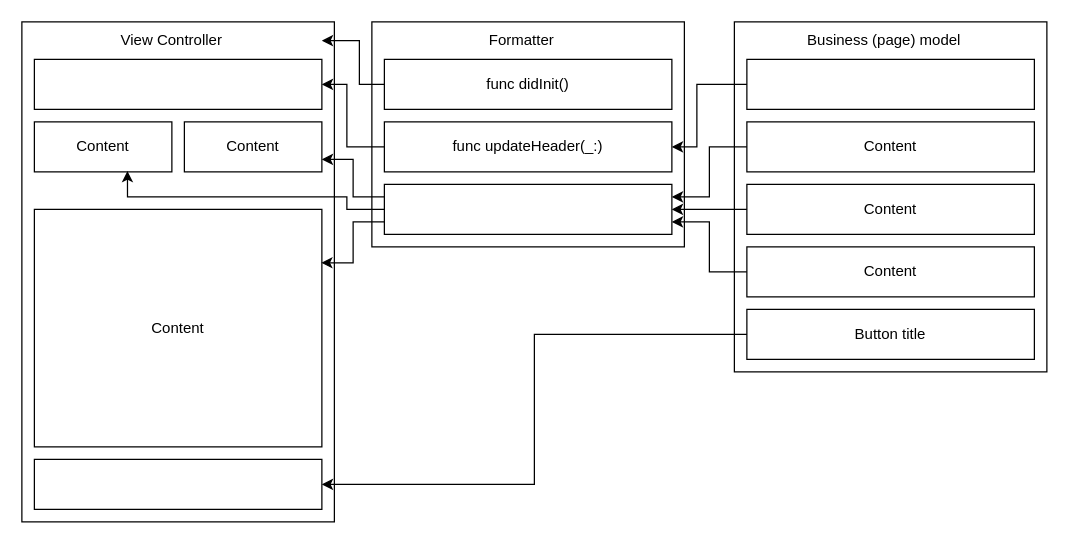
Image size: 1069x544. Some labels were removed from this diagram. Each missing label, with the centre of its shape:
"Button" belongs at (x=177, y=483).
"func updateContent(_:)" belongs at (x=527, y=208).
"Header" belongs at (x=177, y=83).
"Header Data" belongs at (x=890, y=83).
